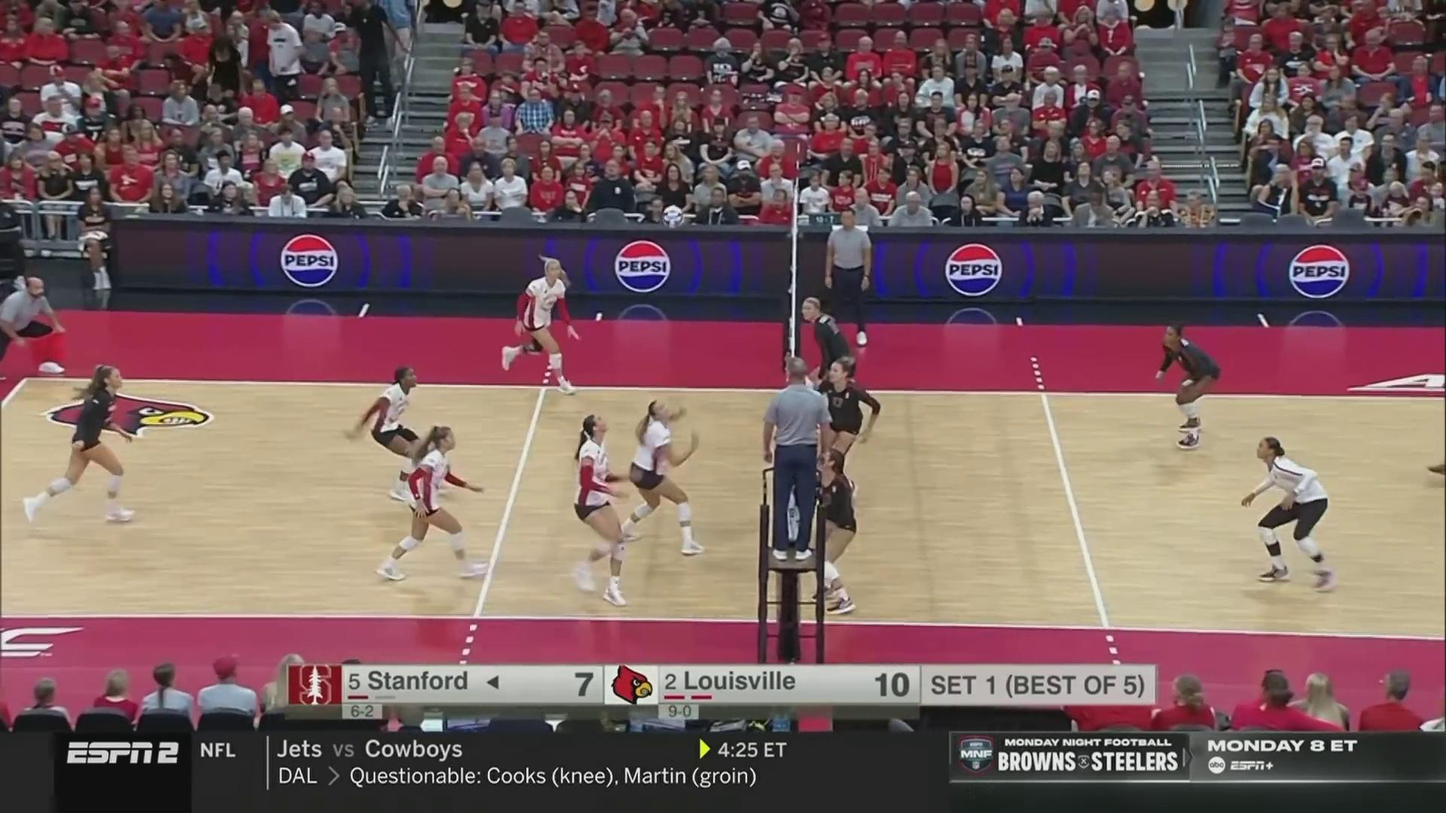player: (20, 366, 137, 527), (382, 427, 495, 580), (616, 401, 707, 556), (1241, 441, 1335, 588), (353, 371, 438, 509), (571, 414, 627, 608), (499, 262, 580, 385), (811, 359, 880, 496), (1151, 326, 1219, 449), (802, 297, 857, 440), (814, 450, 859, 616)
refree: (760, 359, 833, 560), (824, 207, 874, 348), (0, 271, 65, 376)
